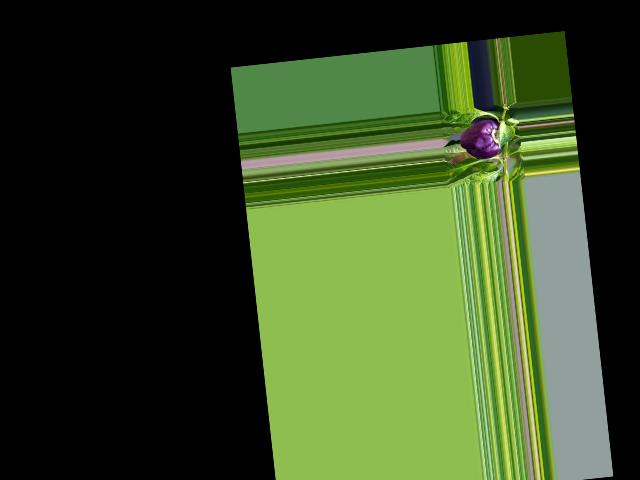bell_pepper: (456, 118, 506, 162)
